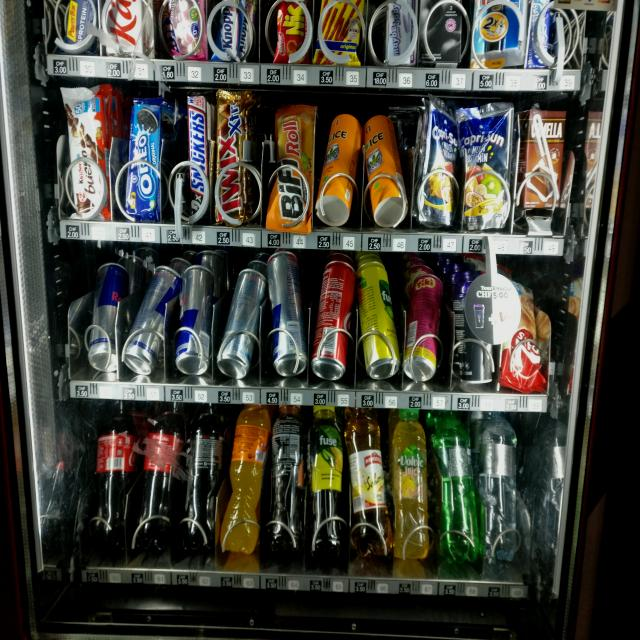7days_croissantschoko_packung_80_1_0000000000003: (498, 274, 536, 389)
bifi_roll__50__4251097402635: (270, 100, 314, 234)
bueno___43__4008400320328: (61, 85, 112, 221)
c-swiss_dosenabisicetea__33__9120025930135: (364, 113, 412, 225), (320, 110, 362, 224)
caferoyal_classicmacchiato__33__7617014164487: (452, 274, 497, 386)
caprisun_multivitamin__20__4000177605004: (462, 100, 514, 228), (418, 98, 460, 225)
coke__dose_33__54491472: (311, 258, 356, 382)
coke__flasche_50__54491472: (89, 401, 135, 552), (182, 404, 226, 549), (144, 399, 180, 555)
comella_schokodrink__33__7613100037253: (520, 102, 566, 215)
fanta___50__40822938: (222, 403, 268, 551)
fuse_lemon__50__5449000235947: (308, 404, 350, 552)
fuse_lemon_dose_33__5449000235947: (357, 262, 402, 376)
fuse_peach__50__5449000236623: (268, 405, 307, 547)
oreo___66__84100733: (124, 94, 160, 217)
ramseier_schorle__50__7610057012456: (342, 404, 393, 554)
redbull___33__90162909: (216, 264, 265, 376), (269, 248, 309, 379), (127, 266, 175, 374), (85, 259, 124, 367), (178, 264, 214, 373)
snickers___50__5000159461122: (183, 91, 211, 220)
tiki_himbeer_brause__50__00000000009342: (404, 273, 446, 381)
twix___50__5000159459228: (218, 84, 248, 230)
valser_classic__50__76404160: (426, 404, 484, 563)
valser_still__50__7610335002575: (474, 410, 521, 564)
volvic_pinapple__50__305764335648: (388, 406, 432, 562)
